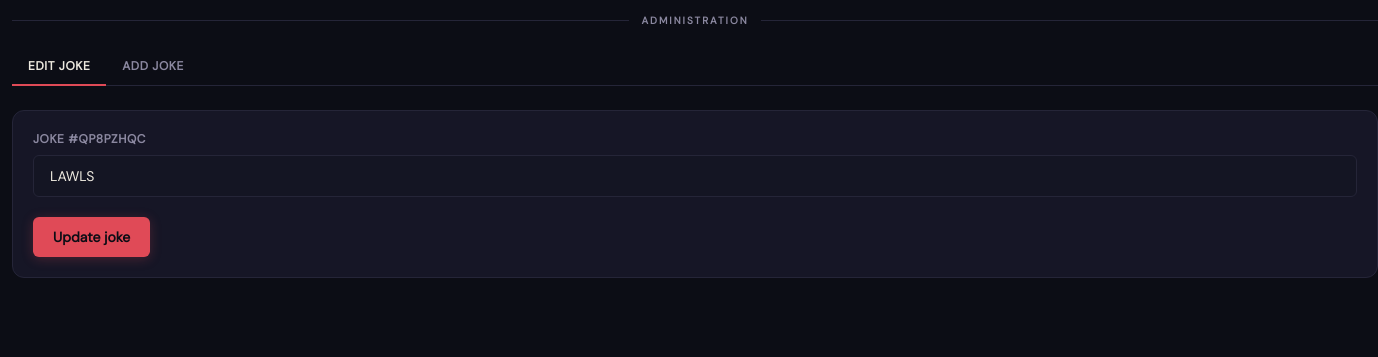
Admin component › displays an error message when there is a failure editing the joke
The image size is (1378, 357).
In the field labelled "Joke #qp8pzhqc": [695, 176] box [33,155,1357,197], type "funny joke"
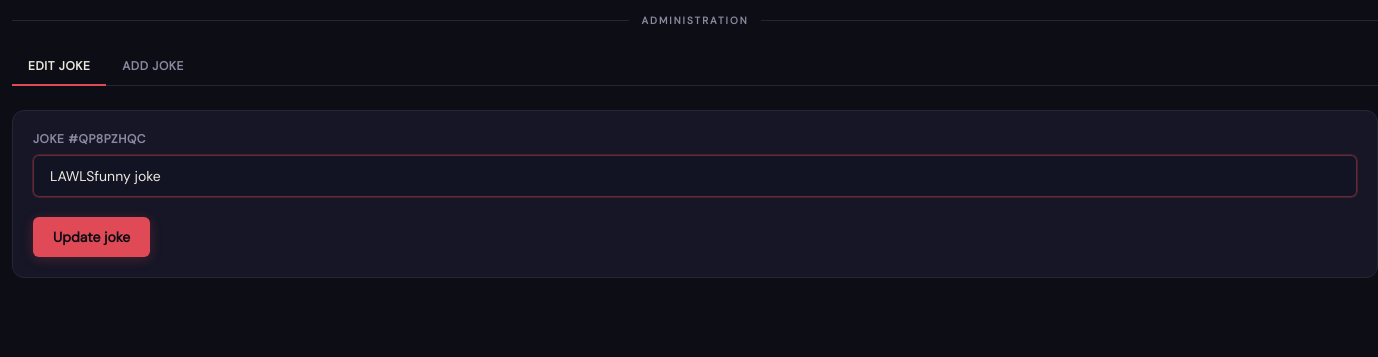
Click the button "Update joke": [92, 237] box [33,217,150,257]
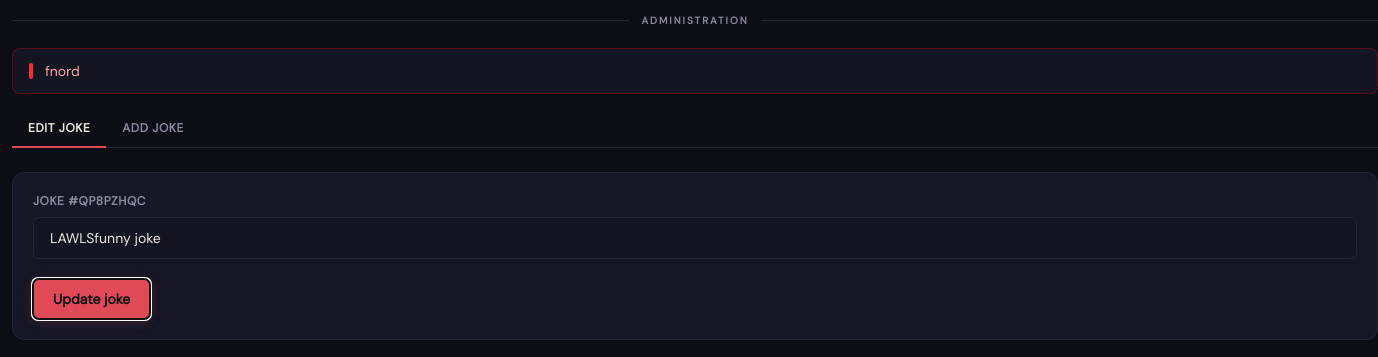
Result: the text "fnord" is shown at [12,48,1377,94]
